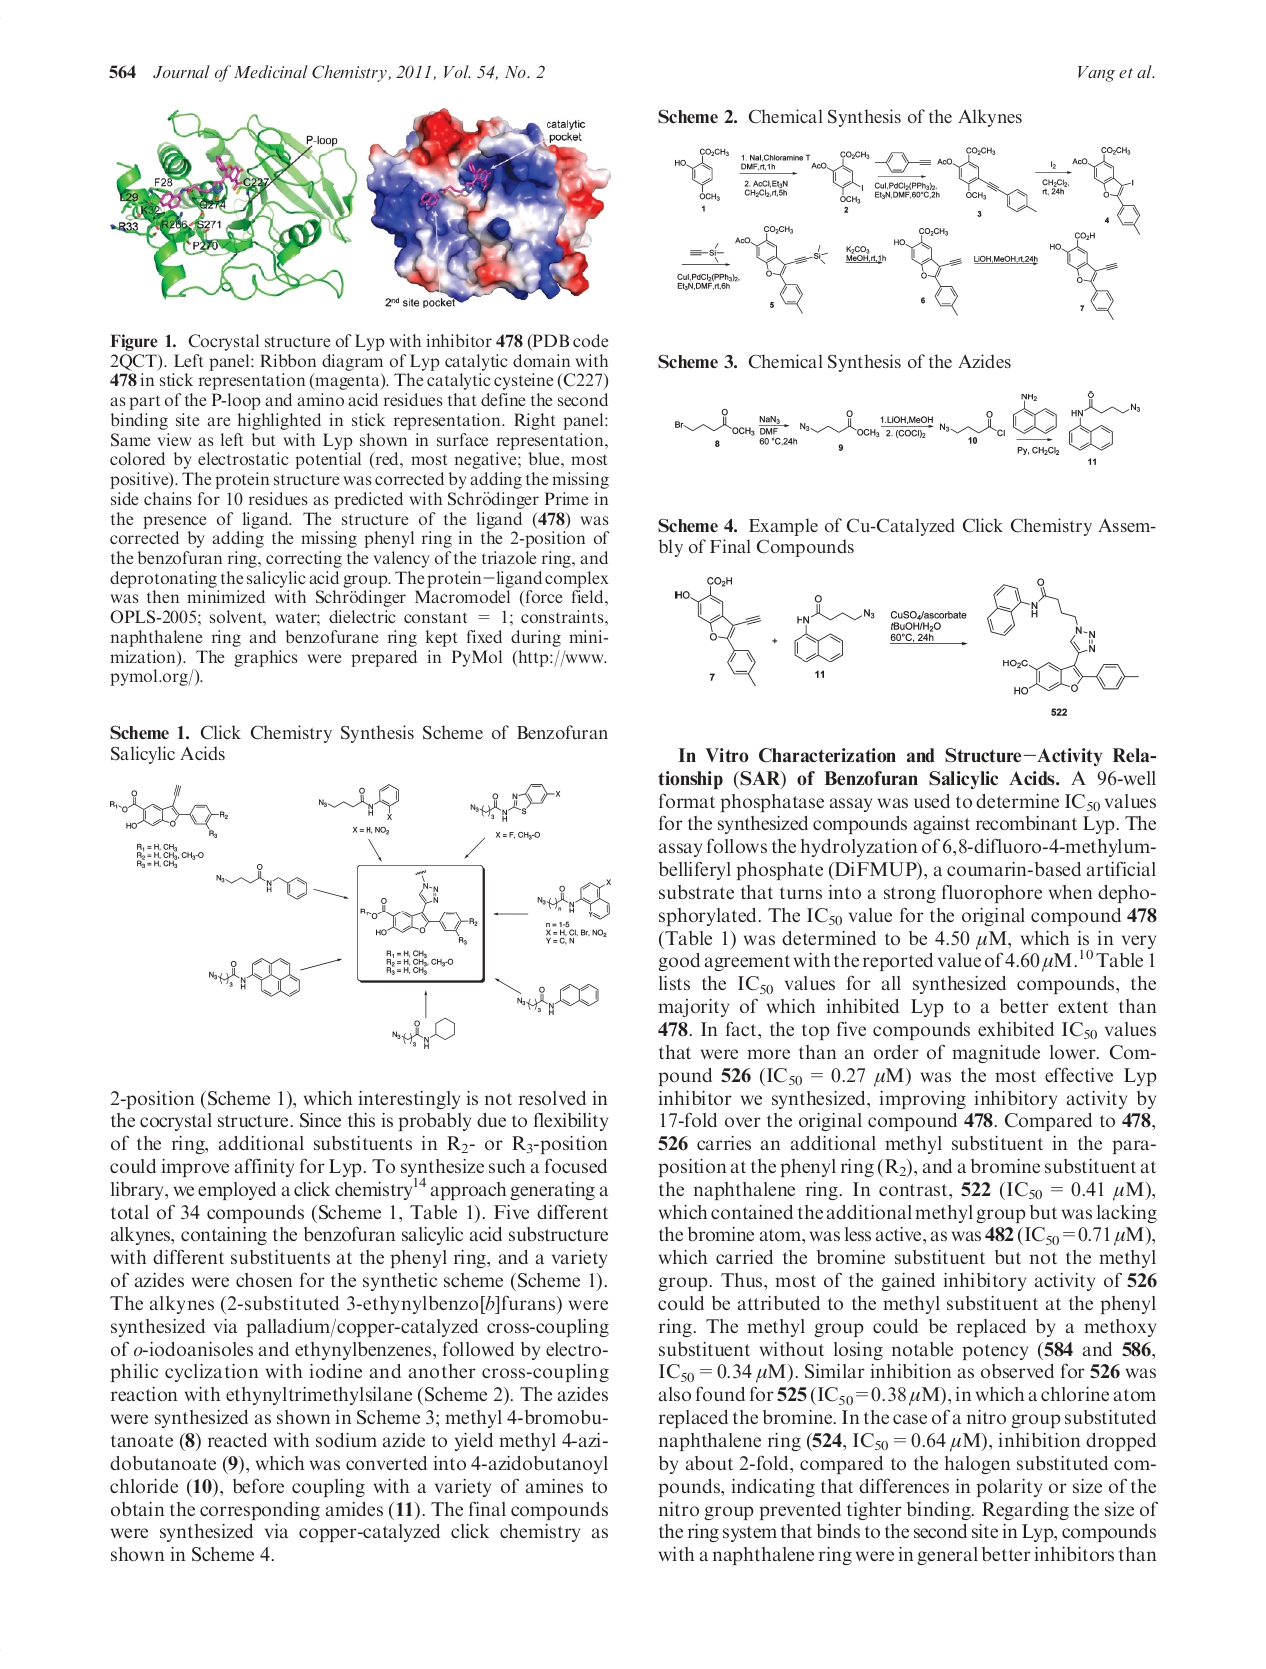exist_molecular: (984, 575, 1141, 696), (672, 575, 763, 686), (360, 868, 479, 947), (734, 222, 828, 315), (936, 145, 1039, 217), (106, 783, 230, 840), (1047, 229, 1118, 322), (892, 226, 964, 319), (1071, 144, 1142, 235), (790, 590, 876, 664), (1067, 388, 1142, 452), (465, 782, 563, 825), (215, 860, 313, 903), (207, 956, 301, 997), (316, 781, 402, 823), (810, 148, 872, 205), (535, 878, 614, 922), (673, 145, 731, 203), (515, 983, 602, 1016), (797, 410, 880, 442), (388, 1015, 459, 1051), (673, 408, 755, 438), (1011, 391, 1061, 435), (938, 408, 1008, 438), (872, 152, 934, 174), (688, 239, 725, 265)
